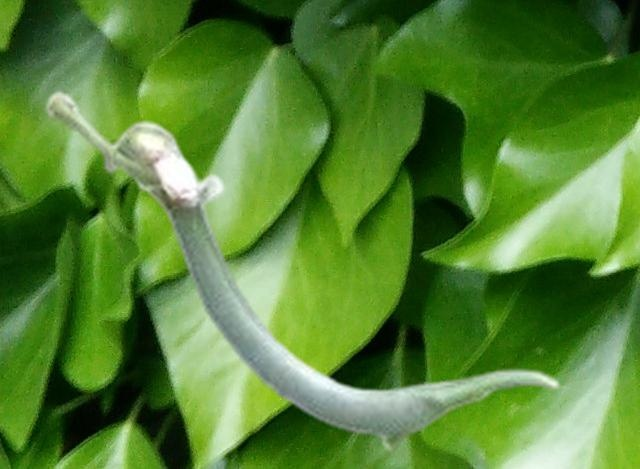french_bean: (44, 89, 560, 452)
